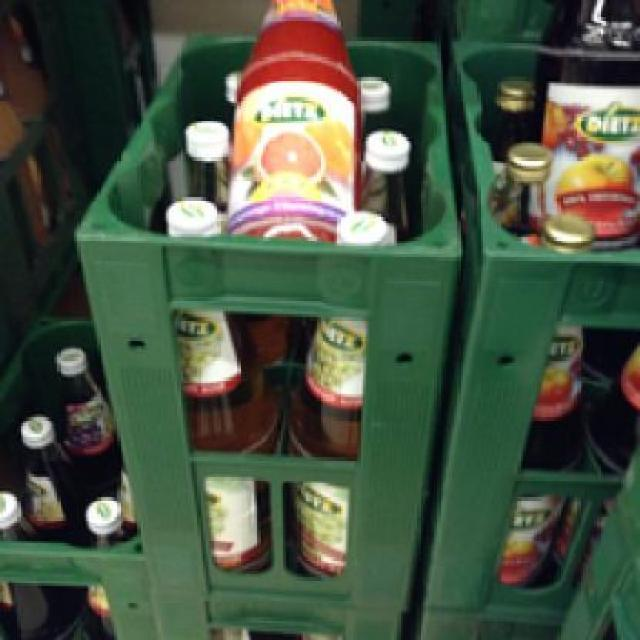Juice: (152, 186, 274, 560), (277, 208, 394, 574), (222, 0, 352, 240)
